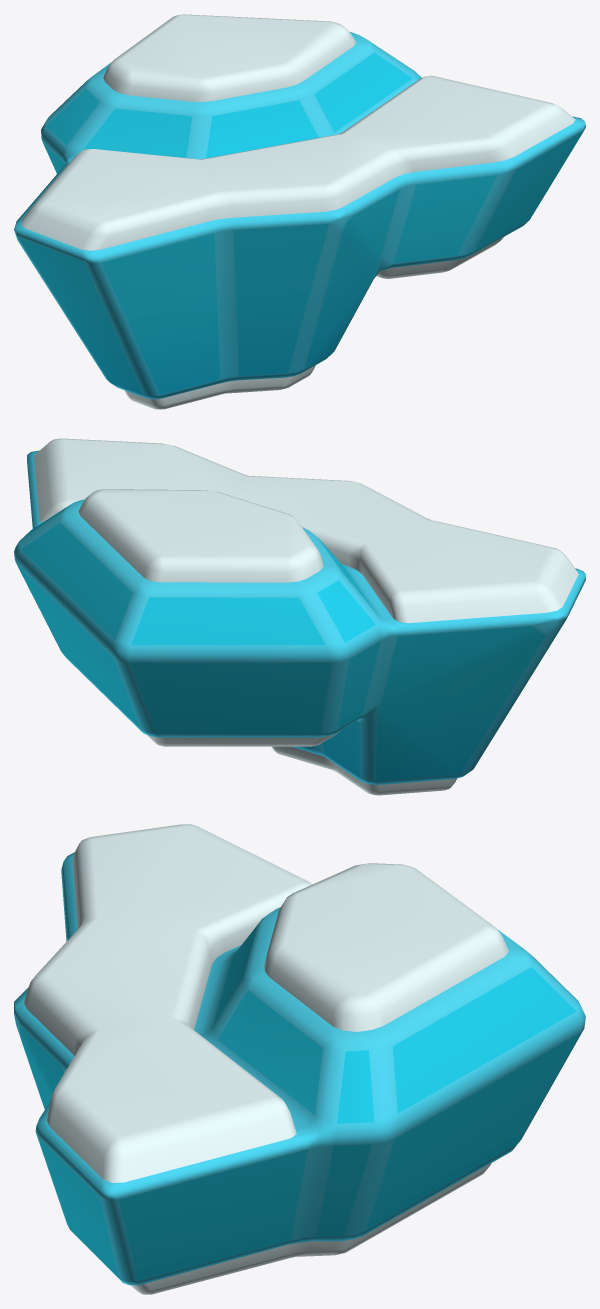
File: ice_006.fbx
3 views of the same model, one above another, from view 1: azimuth 30°, elevation 25°; view 2: azimuth 150°, elevation 25°; view 3: azimuth 270°, elevation 25° (orthographic). The views are drawn at different scales.
Parts seen in each view (by area): view 1: ice_006; view 2: ice_006; view 3: ice_006.
Part boxes in pixels (x1,y1,x2,y2): ice_006: (14, 14, 585, 409); ice_006: (14, 438, 585, 795); ice_006: (14, 824, 585, 1294).
Bounding box in the file's own units: 572 × 389 × 269.
